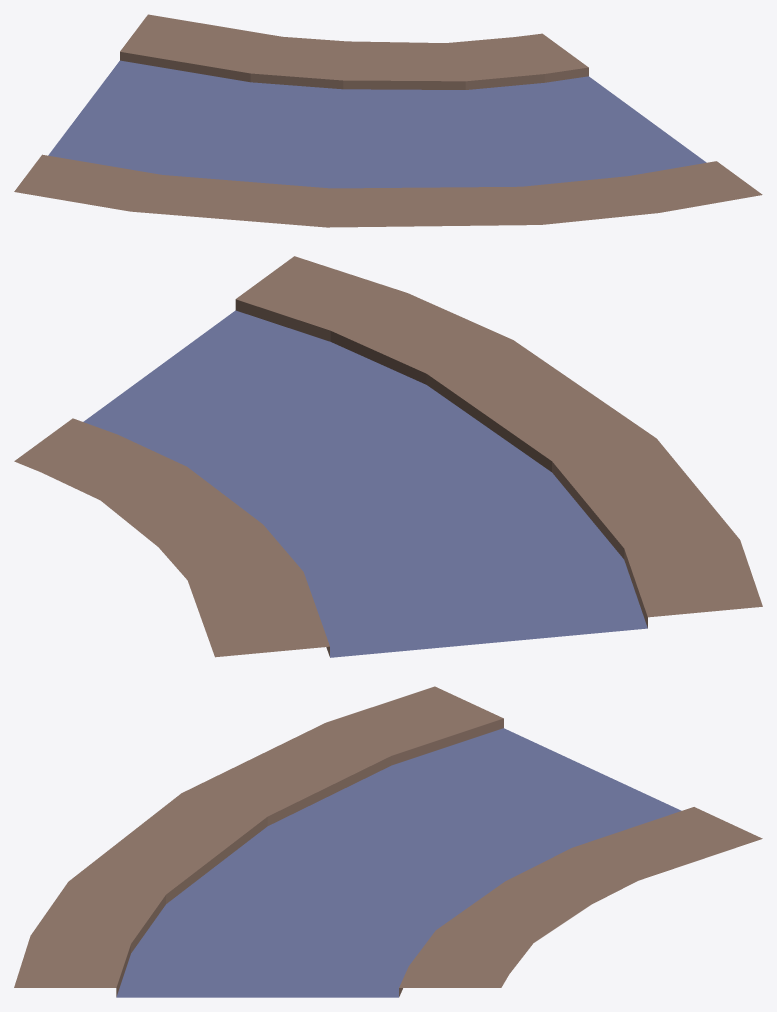
The model's file is fbRoadRotation.fbx.
3 views of the same model, one above another, from view 1: azimuth 30°, elevation 25°; view 2: azimuth 150°, elevation 25°; view 3: azimuth 270°, elevation 25° (orthographic). The views are drawn at different scales.
Visible parts, largest first — view 1: Plane.001; view 2: Plane.001; view 3: Plane.001.
Part boxes in pixels (x1=…): Plane.001: x1=14, y1=14, x2=762, y2=227; Plane.001: x1=14, y1=256, x2=762, y2=657; Plane.001: x1=14, y1=686, x2=762, y2=997.
Bounding box in the file's own units: 1294 × 19.47 × 1359.
